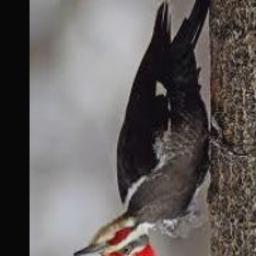Woodpecker: (74, 0, 247, 256)
